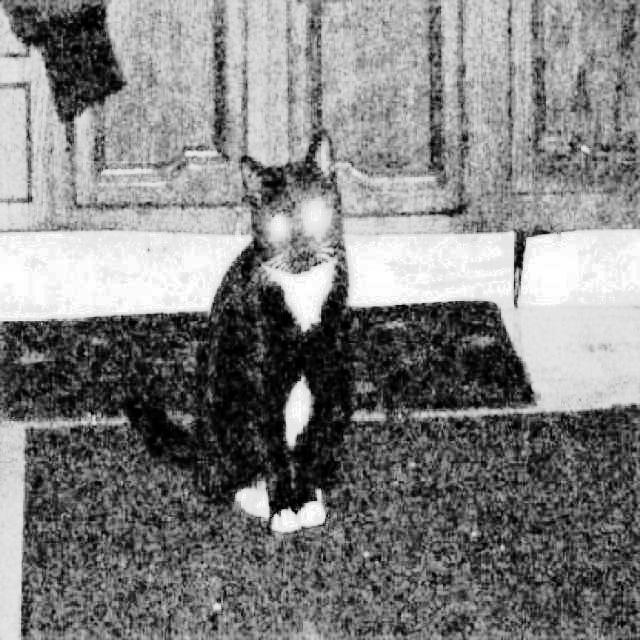Cat: (115, 113, 360, 541)
